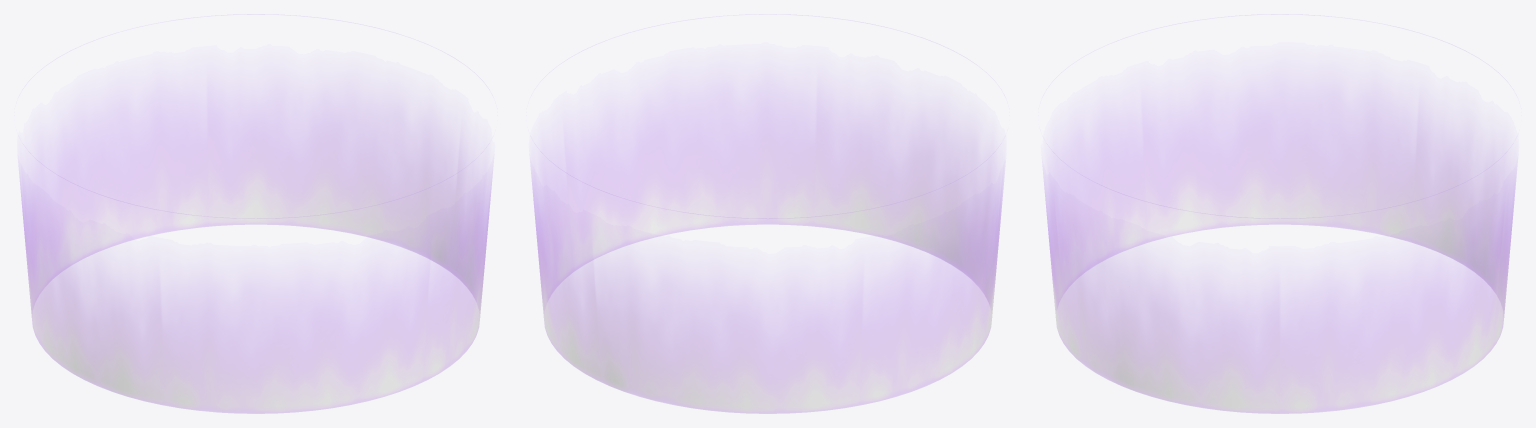
File: shock_wall_arcane.glb
The picture shows the model from 3 angles, left to right: view 1: azimuth 30°, elevation 25°; view 2: azimuth 150°, elevation 25°; view 3: azimuth 270°, elevation 25°; orthographic projection.
Parts seen in each view (by area): view 1: wall; view 2: wall; view 3: wall.
Boxes of the visible parts, <box> form: wall: <box>19,14,492,413</box>; wall: <box>531,15,1003,413</box>; wall: <box>1044,14,1516,413</box>.
Size of the model in its own units: 2.16 by 1 by 2.16.
1 material, 1 textured.
